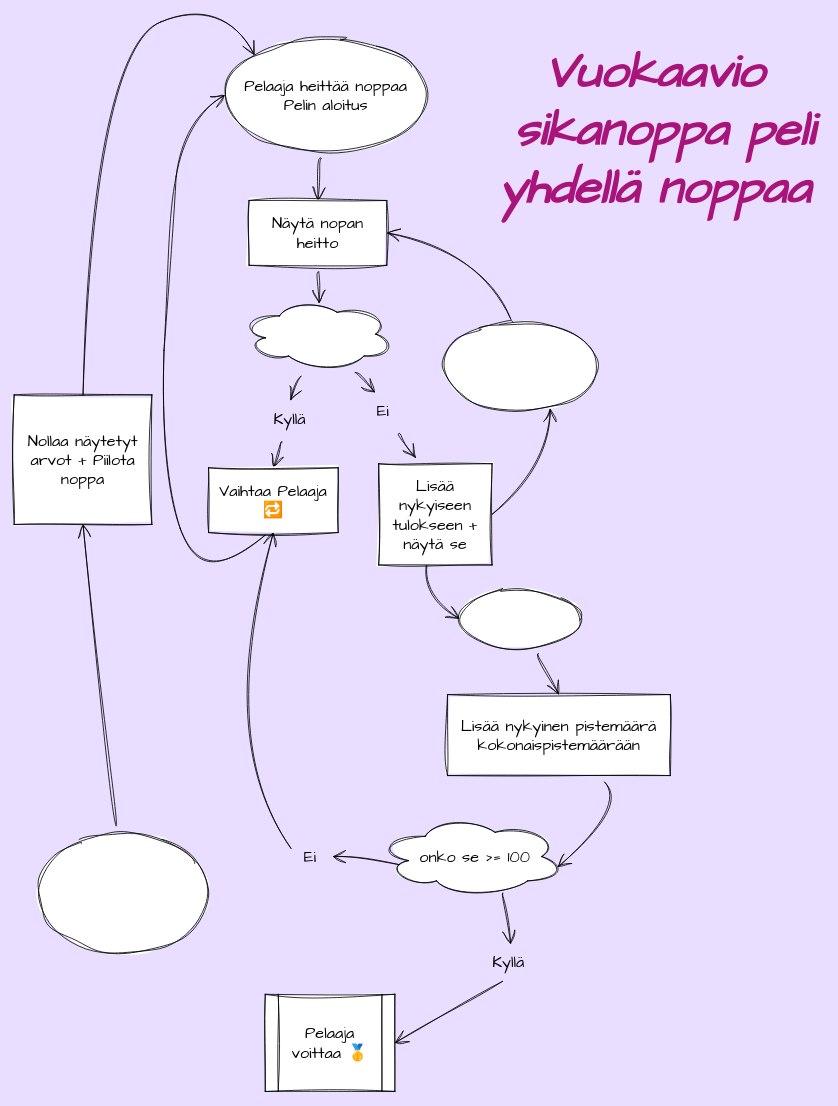
Image size: 838x1106. Some labels were removed from this diagram. The box of each missing label's shape, as (x1, y1, x2, y2) in pixels:
Nollauspainiketta napsautettu: (38, 831, 209, 954)
Onko se 1 ?: (240, 297, 395, 371)
Pidä: (459, 588, 581, 648)
Rullaa uudelleen: (443, 321, 597, 411)
